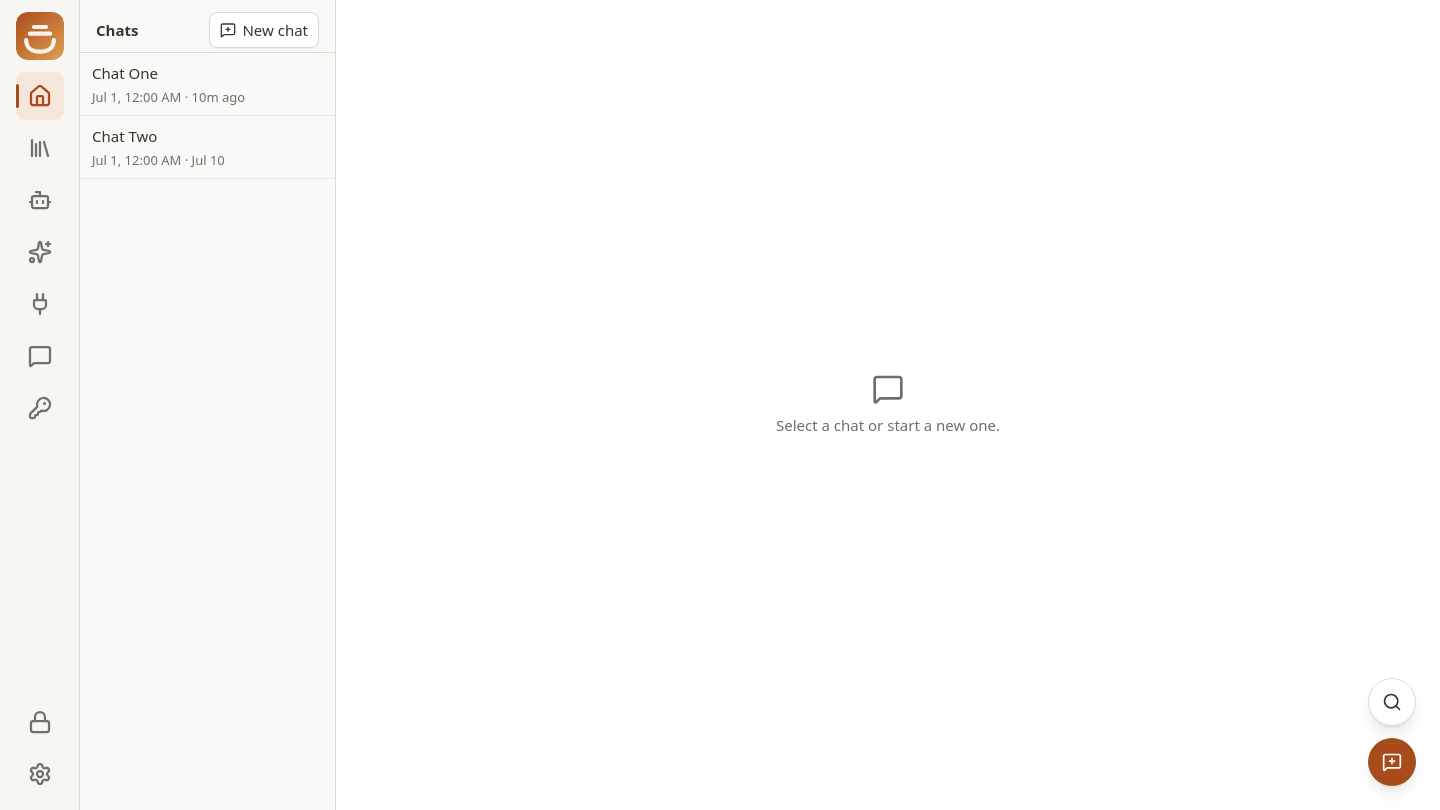
Test: clicking a session row selects it and shows its history
Check: the text "Chat One" is shown, box 92,61 -> 158,85
Click the text "Chat Two": (125,136) 92,124 -> 157,148
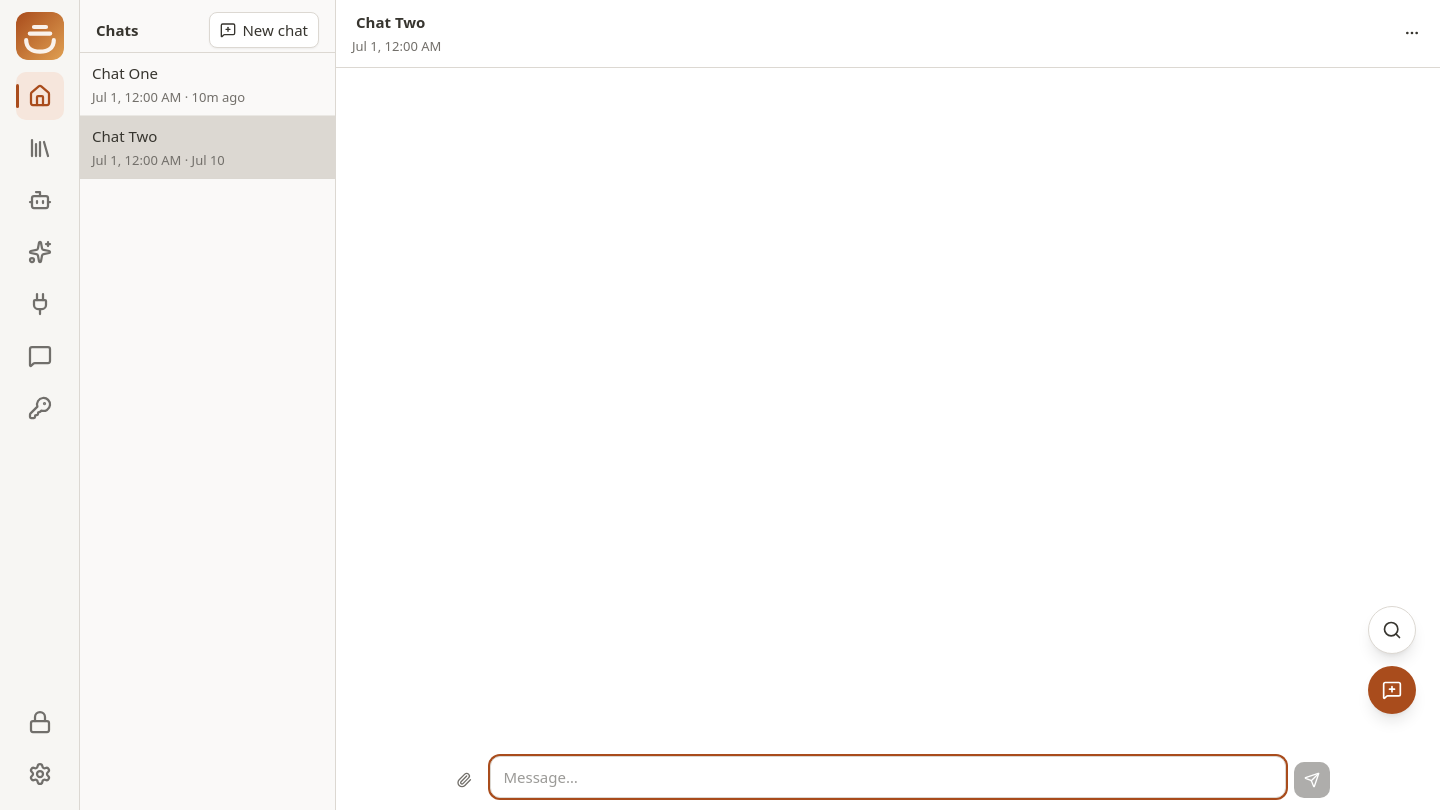
Check: the heading "Chat Two" is shown, box 356,12 -> 425,32
